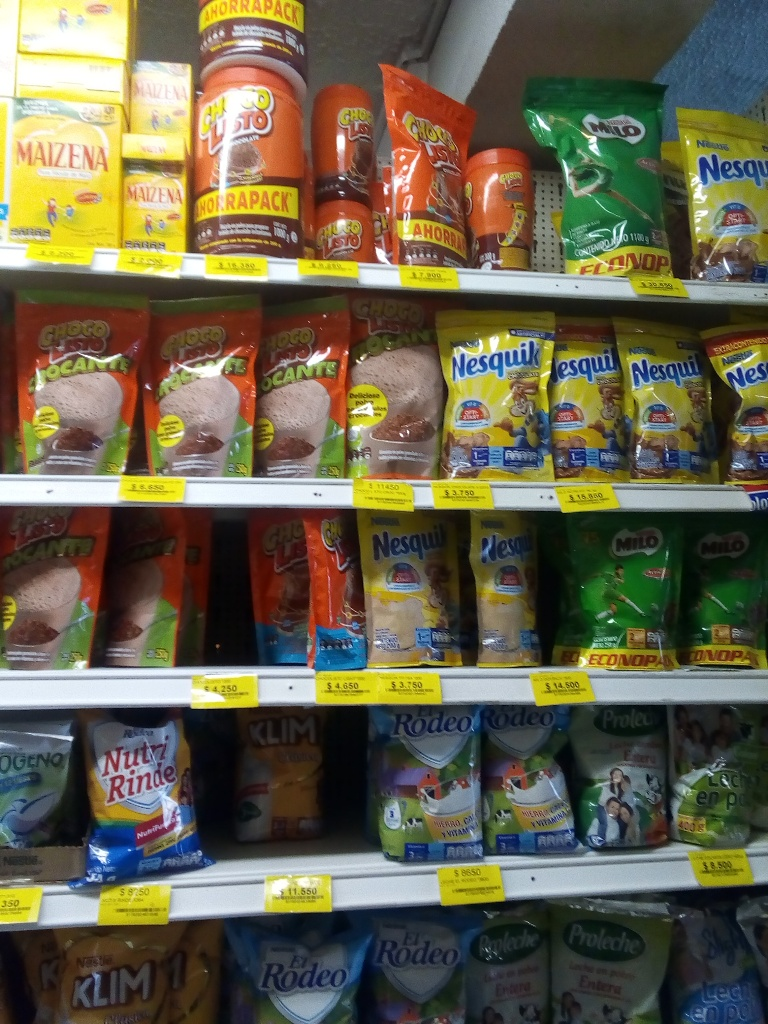COL0170102DYP25000: (7, 276, 138, 475)
COL0170102DYP50000: (346, 287, 448, 481)
COL0170103DYP36000: (373, 49, 482, 269)
COL0170103TRR00100: (188, 56, 312, 261)
COL0170103TRR30000: (463, 141, 544, 275)
COL0170104DYP20000: (239, 511, 316, 669)
COL0170203DYP25000: (551, 509, 686, 670)
COL0170303DYP20000: (439, 303, 559, 481)
COL0170306DYP20000: (365, 513, 469, 662)
